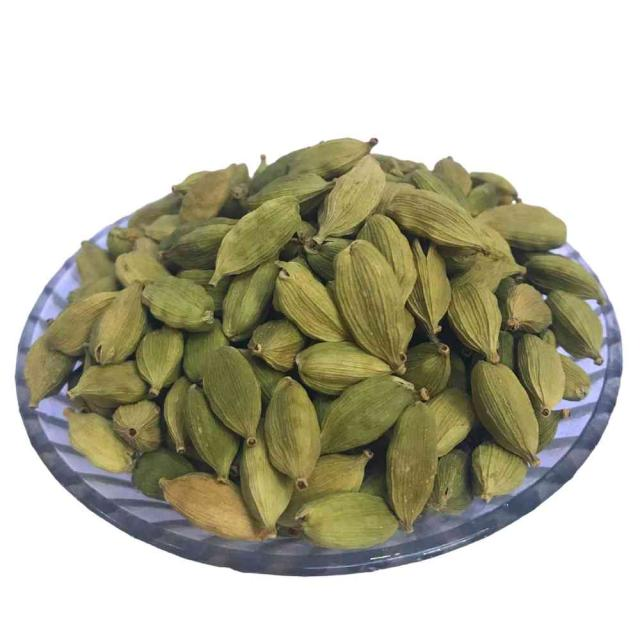Cardamom: (13, 125, 600, 549)
